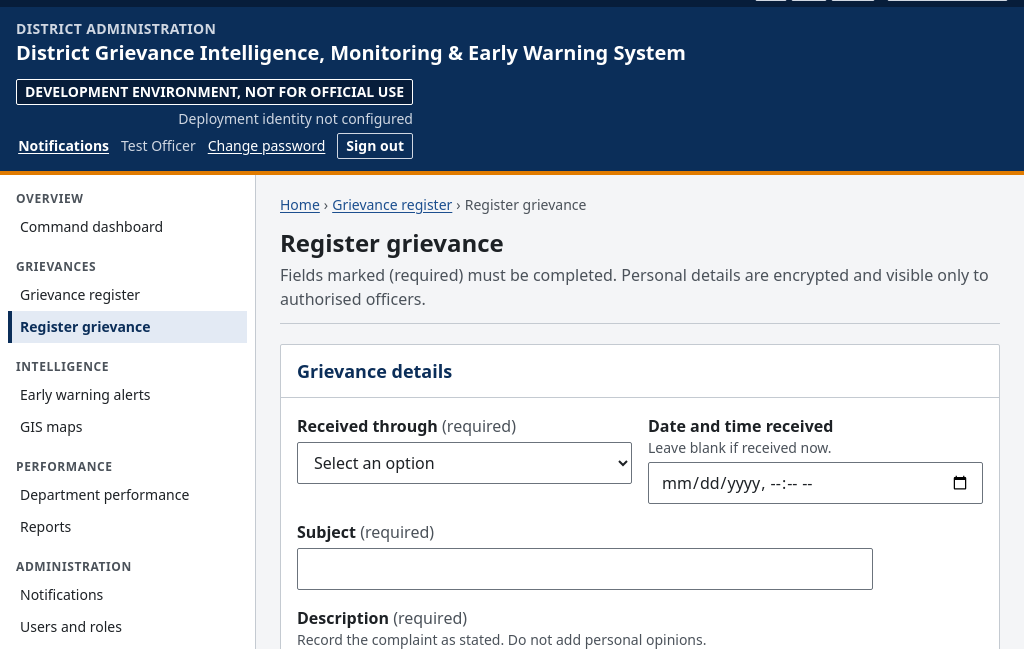
Test: Register grievance form › submits and shows the reference number and possible duplicates
Select "Manual submission" in the dropdown labelled "Received through (required)" at (464, 462), box [297,442,632,484]
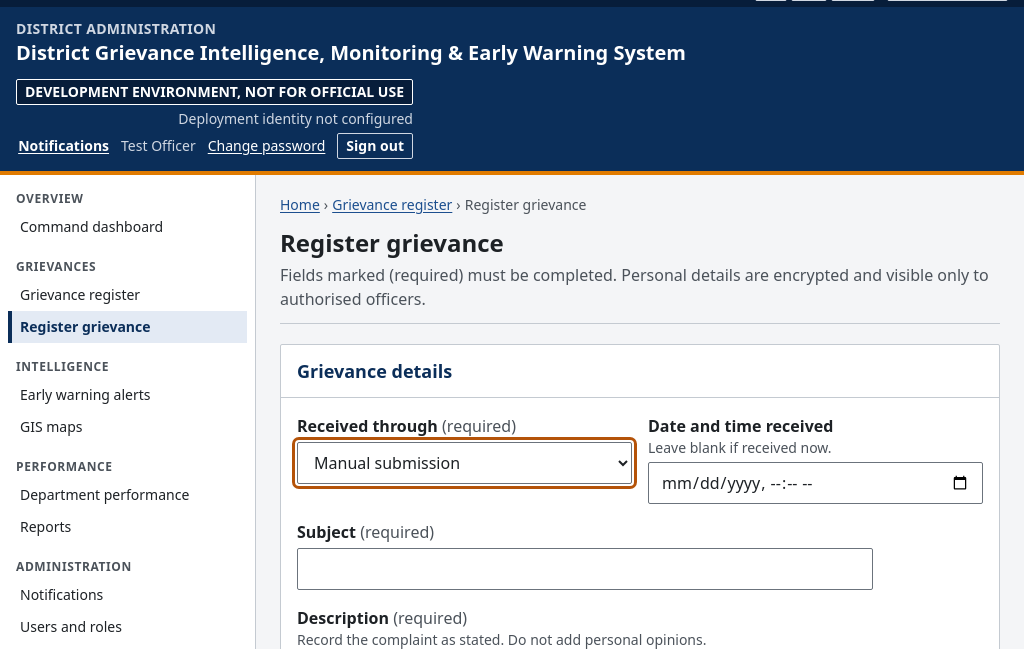
Type "Street light not working" into the field labelled "Subject (required)".
click(585, 568); type("Street light not working")  # box [297,548,873,590]
(page scrolled)
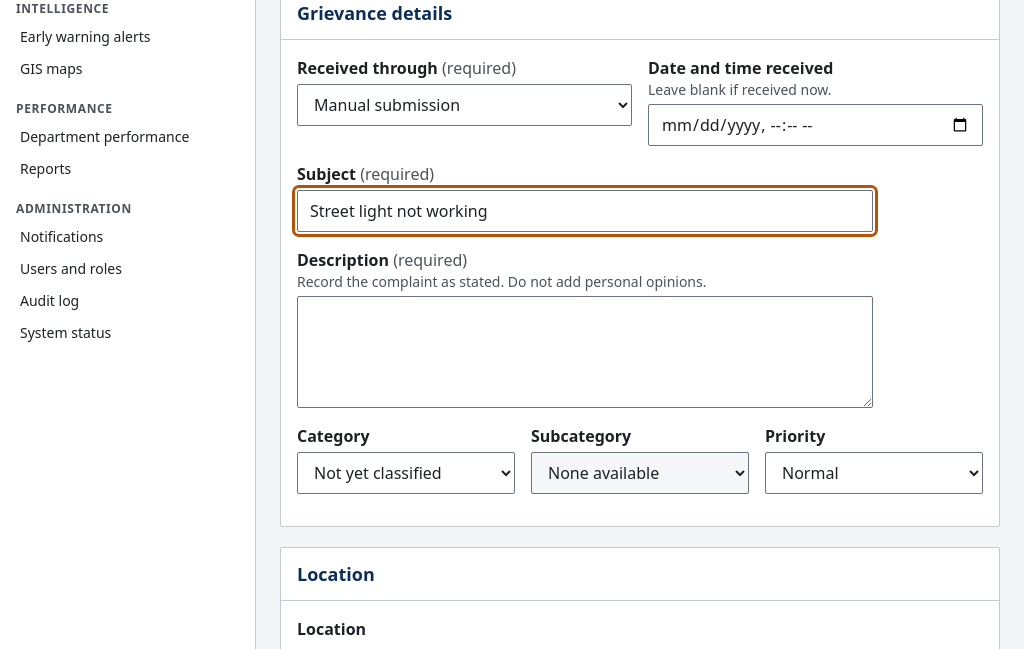
Type "The street light near the temple has not worked for a month." into the text box labelled "Description (required)".
click(585, 352); type("The street light near the temple has not worked for a month.")  # box [297,296,873,408]
(page scrolled)
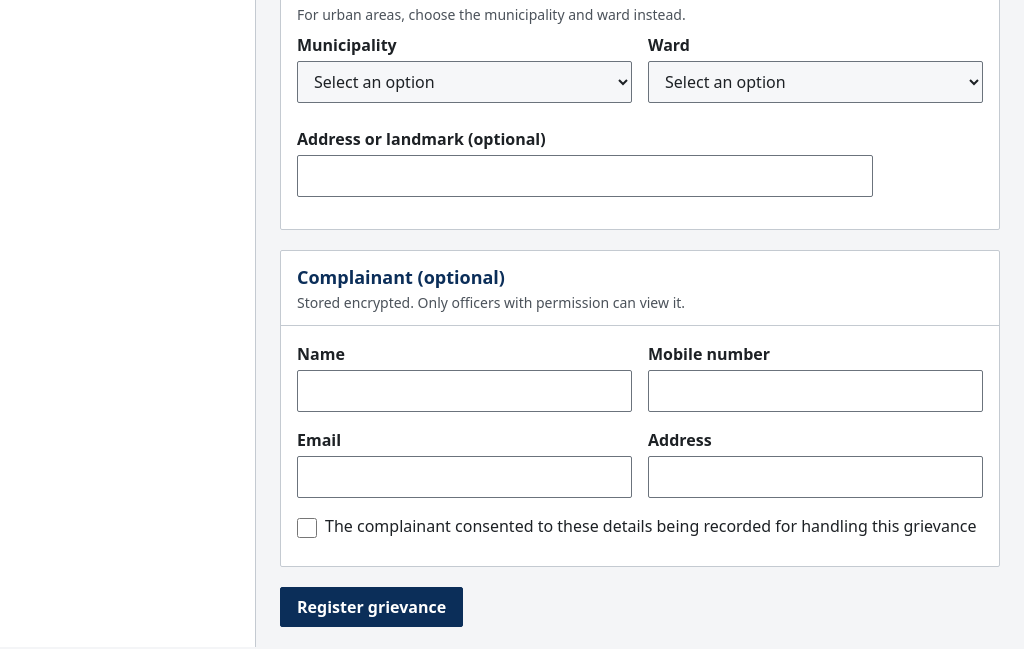
Click the button "Register grievance".
click(372, 606)  # box [280,586,463,626]
(page scrolled)
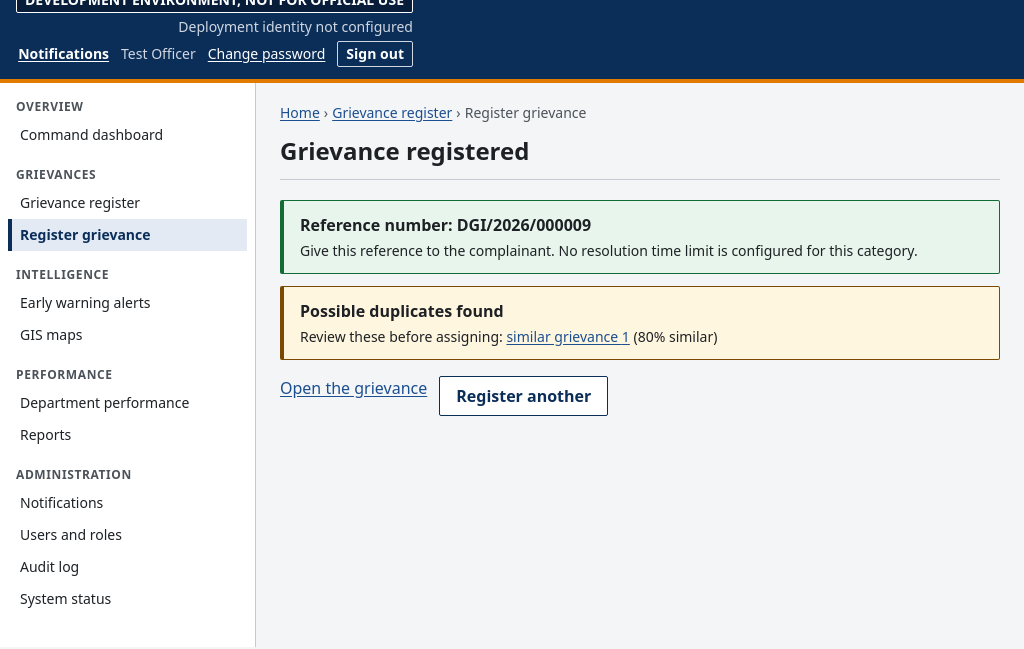
Check: the text "Reference number: DGI/2026/000009" is shown, box [299,212,591,236]
